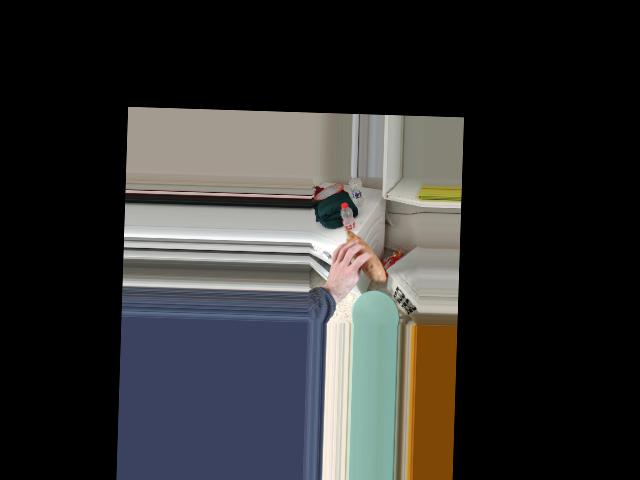sweet_potato: (334, 232, 385, 275)
